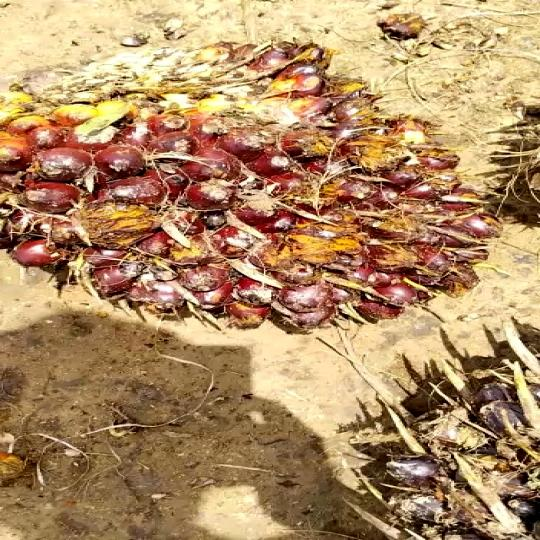kurang masak: (0, 24, 508, 349)
